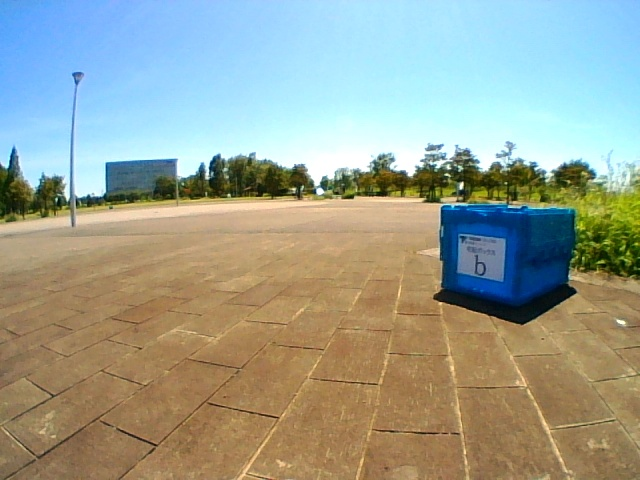blue_box: (440, 205, 568, 286)
tag_b: (461, 242, 503, 276)
